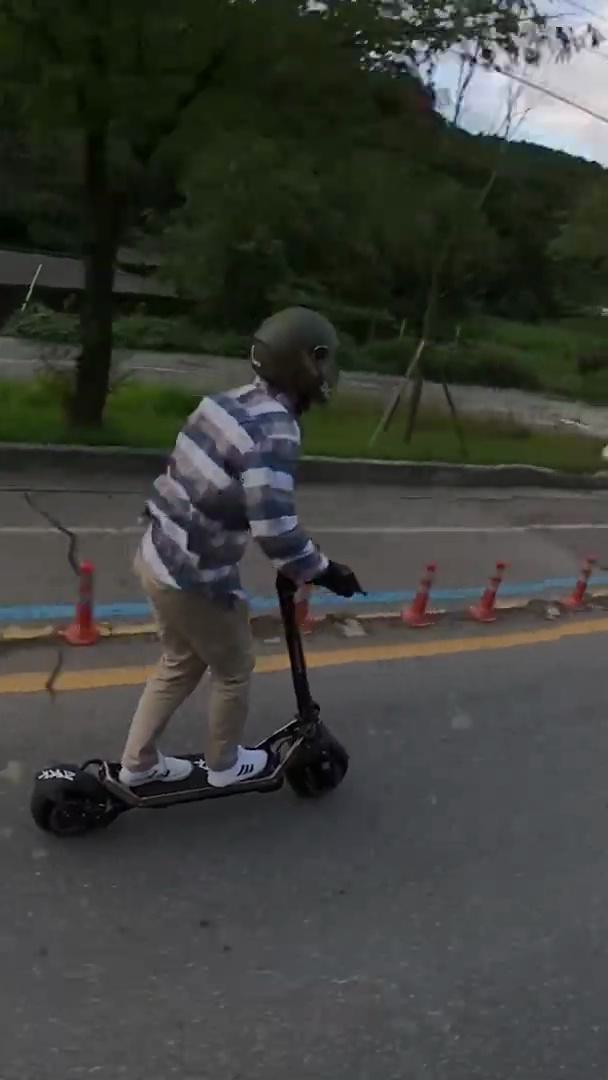helmet: (25, 304, 372, 842)
